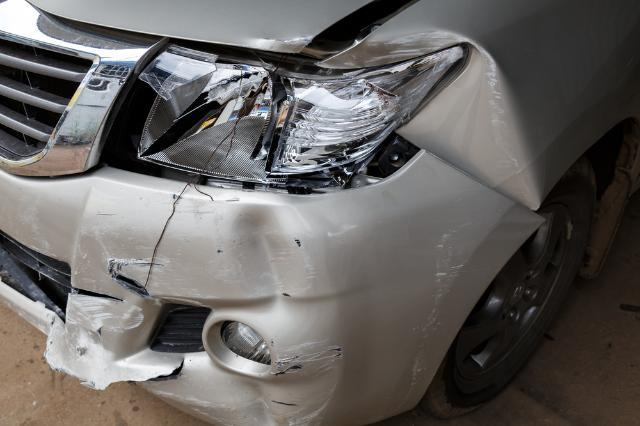crack: (135, 359, 186, 385), (70, 287, 123, 302), (112, 275, 147, 293)
dent: (412, 43, 533, 206), (227, 209, 318, 322), (211, 366, 339, 415), (251, 35, 312, 54)
lamp broken: (134, 41, 463, 193)
scratch: (68, 186, 218, 370), (400, 217, 480, 408), (346, 32, 468, 68), (13, 193, 55, 258), (273, 341, 342, 377)
